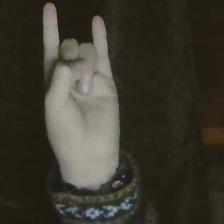U: (33, 1, 128, 164)
